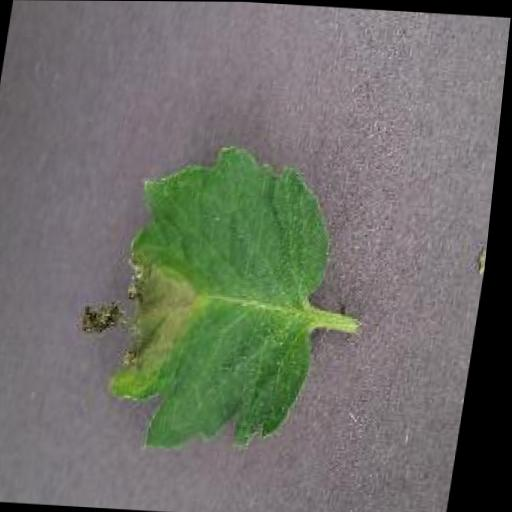Late Blight: (68, 130, 353, 446)
